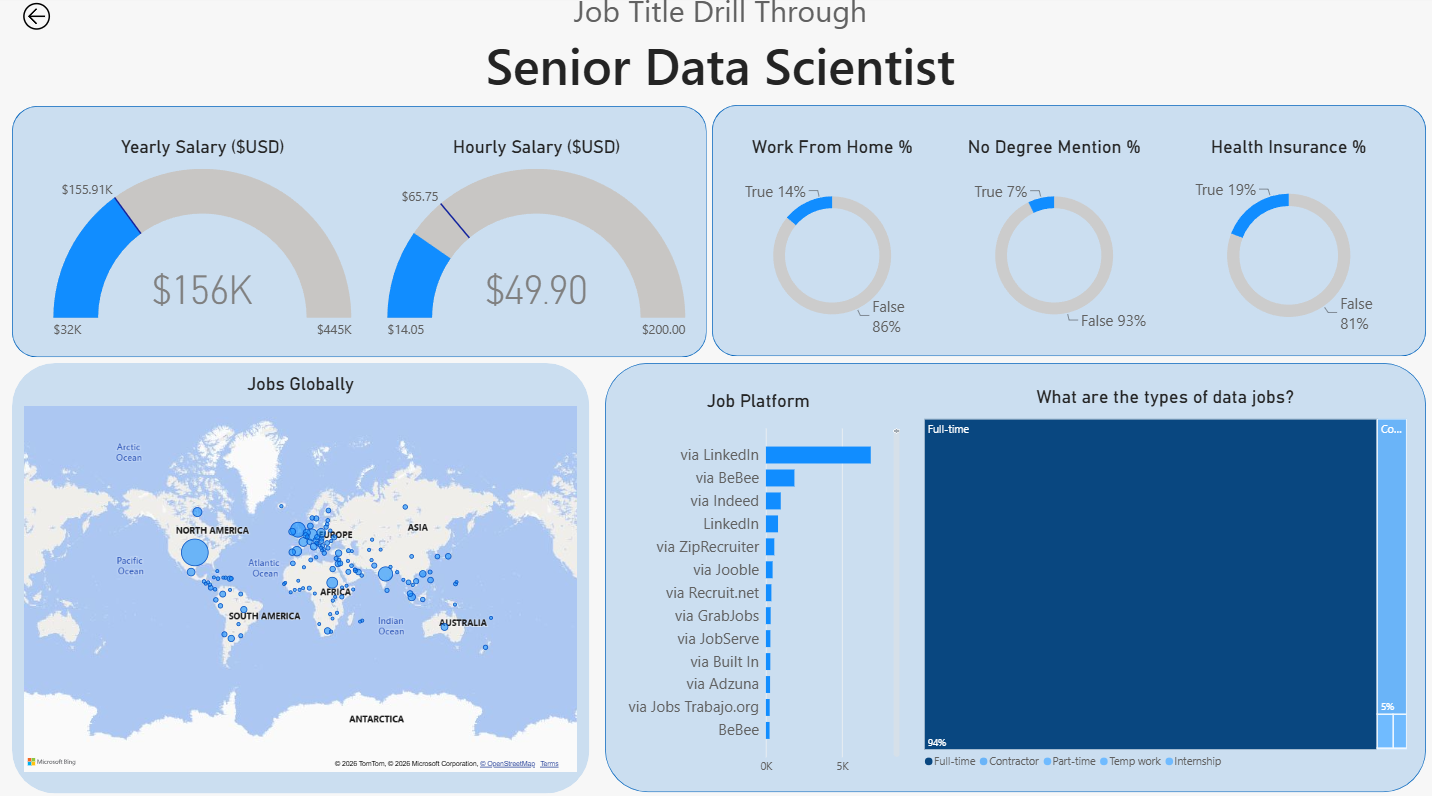

What the dashboard file says about the page in this screenshot:
{"tool":"powerbi","page":{"name":"Job Drill Through","canvas":[1920,1080],"ordinal":1},"visuals":[{"type":"group","id":"g1","title":"Group 1","box":[17.3,152,1880.8,915.4],"z":0},{"type":"shape","box":[17.7,153.6,924,334.3],"z":0,"group":"g1"},{"type":"cardVisual","fields":{"Data":["Min(job_postings_flat.job_title_short)"]},"box":[0,0,1920.6,145],"z":1000},{"type":"shape","box":[948.4,152,949.7,334.3],"z":1000,"group":"g1"},{"type":"shape","box":[806.1,494.9,1092,570.9],"z":1500,"group":"g1"},{"type":"actionButton","box":[0,0,99.4,53.1],"z":2000},{"type":"shape","box":[17.3,494.9,768,572.6],"z":2000,"group":"g1"},{"type":"donutChart","title":"No Degree Mention %","fields":{"Category":["job_postings_flat.job_no_degree_mention"],"Y":["CountNonNull(job_postings_flat.job_work_from_home)"]},"box":[1255.7,172.9,295.7,303.3],"z":3000},{"type":"donutChart","title":"Health Insurance %","fields":{"Category":["job_postings_flat.job_health_insurance"],"Y":["CountNonNull(job_postings_flat.job_work_from_home)"]},"box":[1551.5,172.9,329.1,303.3],"z":4000},{"type":"donutChart","title":"Work From Home %","fields":{"Category":["job_postings_flat.job_work_from_home"],"Y":["CountNonNull(job_postings_flat.job_work_from_home)"]},"box":[960,172.9,295.7,303.3],"z":5000},{"type":"gauge","title":"Hourly Salary ($USD)","fields":{"MaxValue":["Max(job_postings_flat.salary_hour_avg)2"],"MinValue":["Min(job_postings_flat.salary_hour_avg)1"],"TargetValue":["Avg(job_postings_flat.salary_hour_avg)3"],"Y":["Median(job_postings_flat.salary_hour_avg)"]},"box":[489.9,172.9,450.4,303.3],"z":6000},{"type":"gauge","title":"Yearly Salary ($USD)","fields":{"MaxValue":["Max(job_postings_flat.salary_year_avg)2"],"MinValue":["Min(job_postings_flat.salary_year_avg)1"],"TargetValue":["Avg(job_postings_flat.salary_year_avg)3"],"Y":["Median(job_postings_flat.salary_year_avg)"]},"box":[50,172.9,439.8,303.3],"z":7000},{"type":"map","title":"Jobs Globally","fields":{"Category":["job_postings_flat.job_country"],"Size":["CountNonNull(job_postings_flat.job_title_short)"]},"box":[17.1,488.6,768,560.6],"z":8000},{"type":"clusteredBarChart","title":"Job Platform","fields":{"Category":["job_postings_flat.job_via"],"Y":["CountNonNull(job_postings_flat.job_title_short)"]},"box":[805.7,510.9,408,544.5],"z":9000},{"type":"treemap","title":"What are the types of data jobs?","fields":{"Group":["job_postings_flat.job_schedule_type"],"Values":["CountNonNull(job_postings_flat.job_schedule_type)"]},"box":[1213.7,505.7,673.7,543.4],"z":10000}]}

Visuals, with their boxes in screenshot pixels (x1, y1, x2, y2), scaled from the page's 1920x1080 canvas onto the 1432x796 screenshot:
"Group 1" group: box(13, 112, 1416, 787)
shape: box(13, 113, 702, 360)
cardVisual - Min(job_postings_flat.job_title_short): box(0, 0, 1431, 107)
shape: box(707, 112, 1416, 358)
shape: box(601, 365, 1416, 786)
actionButton: box(0, 0, 74, 39)
shape: box(13, 365, 586, 787)
"No Degree Mention %" donutChart: box(937, 127, 1157, 351)
"Health Insurance %" donutChart: box(1157, 127, 1403, 351)
"Work From Home %" donutChart: box(716, 127, 937, 351)
"Hourly Salary ($USD)" gauge: box(365, 127, 701, 351)
"Yearly Salary ($USD)" gauge: box(37, 127, 365, 351)
"Jobs Globally" map: box(13, 360, 586, 773)
"Job Platform" clusteredBarChart: box(601, 377, 905, 778)
"What are the types of data jobs?" treemap: box(905, 373, 1408, 773)
